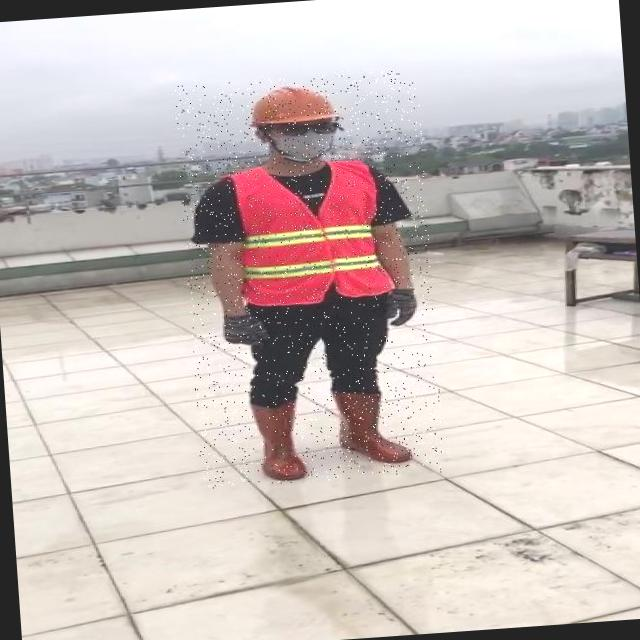boots: (334, 383, 418, 470), (242, 398, 308, 484)
gloves: (365, 274, 449, 334), (204, 290, 276, 350)
helmet: (239, 79, 344, 128)
vest: (228, 158, 398, 309)
